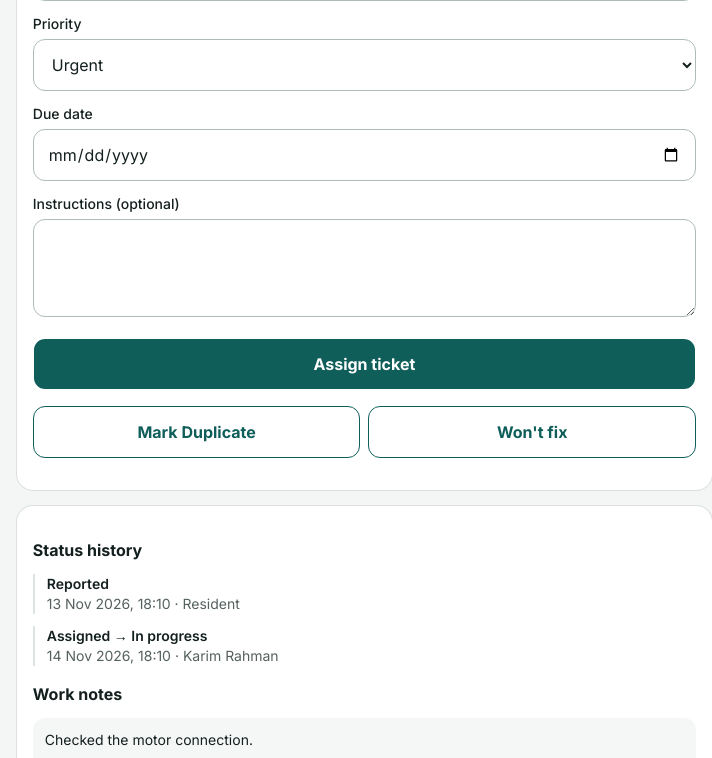
it: ManagerTickets › requires staff and a due date before assigning a Reported ticket
(page scrolled)
Click the button "Assign ticket".
click(364, 364)  # box [33, 338, 696, 390]
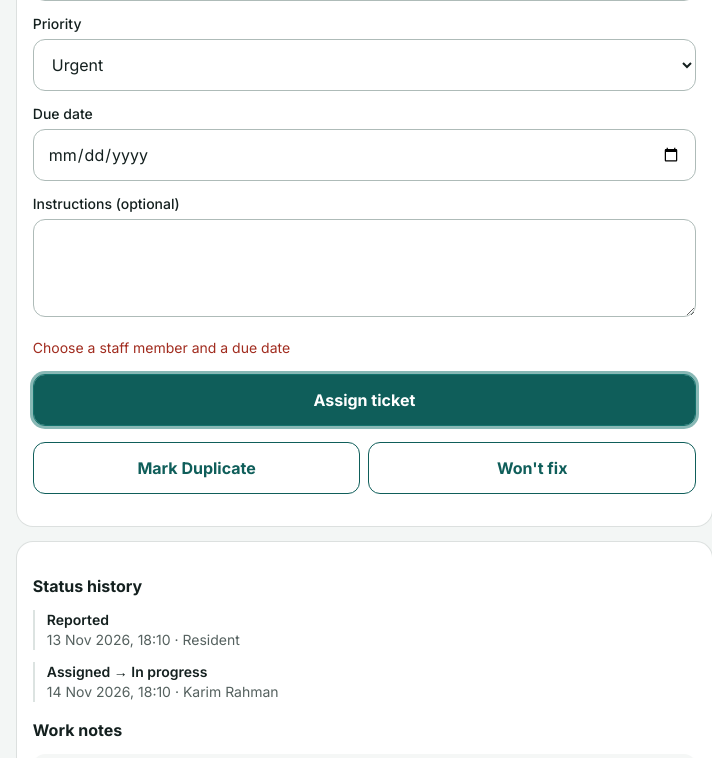
Now the message reads "Choose a staff member and a due date", box [33, 339, 290, 356]
